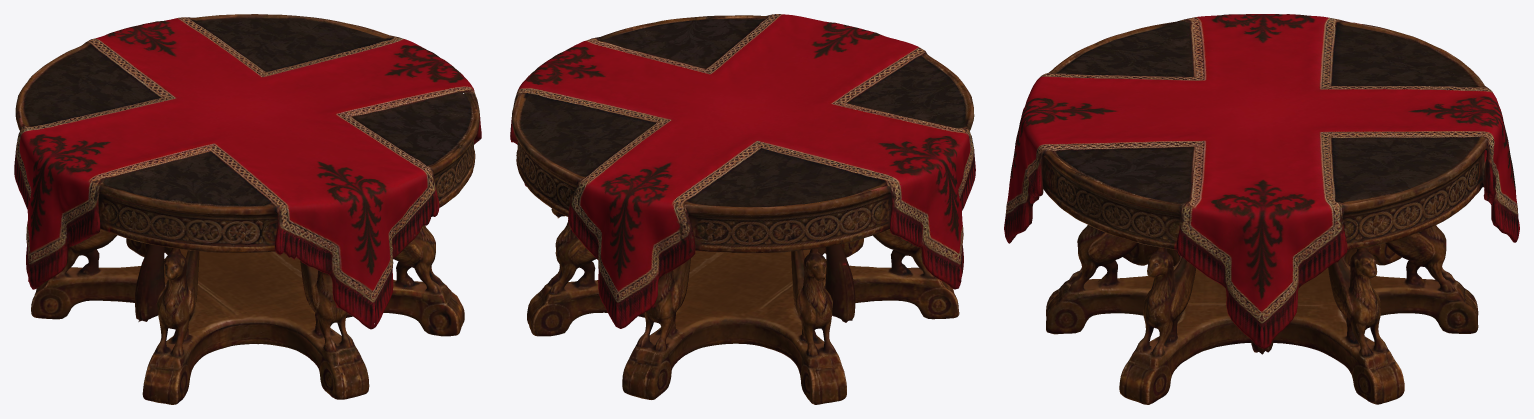
Rendered from ornate-table.glb.
3 views of the same model, side by side, from view 1: azimuth 30°, elevation 25°; view 2: azimuth 150°, elevation 25°; view 3: azimuth 270°, elevation 25° (orthographic). The views are drawn at different scales.
Parts seen in each view (by area): view 1: tripo_node_62a7e6ce; view 2: tripo_node_62a7e6ce; view 3: tripo_node_62a7e6ce.
Part boxes in pixels (box(x1,y1,x2,y2)): tripo_node_62a7e6ce: box(14, 14, 481, 404); tripo_node_62a7e6ce: box(510, 14, 975, 404); tripo_node_62a7e6ce: box(1004, 14, 1519, 404).
Bounding box in the file's own units: 97.16 × 45.34 × 97.13.
1 material, 1 textured.
